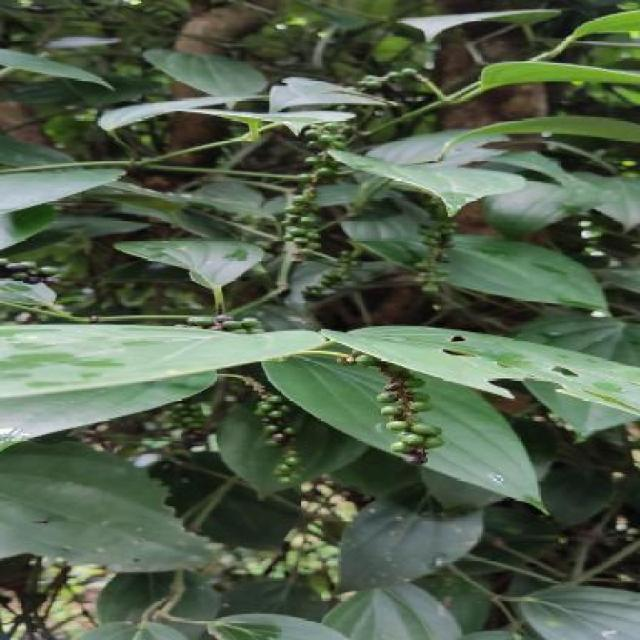UNRIPE: (332, 349, 445, 451), (282, 123, 348, 254), (415, 197, 451, 291), (303, 257, 359, 298), (363, 68, 419, 89), (185, 317, 262, 332)
